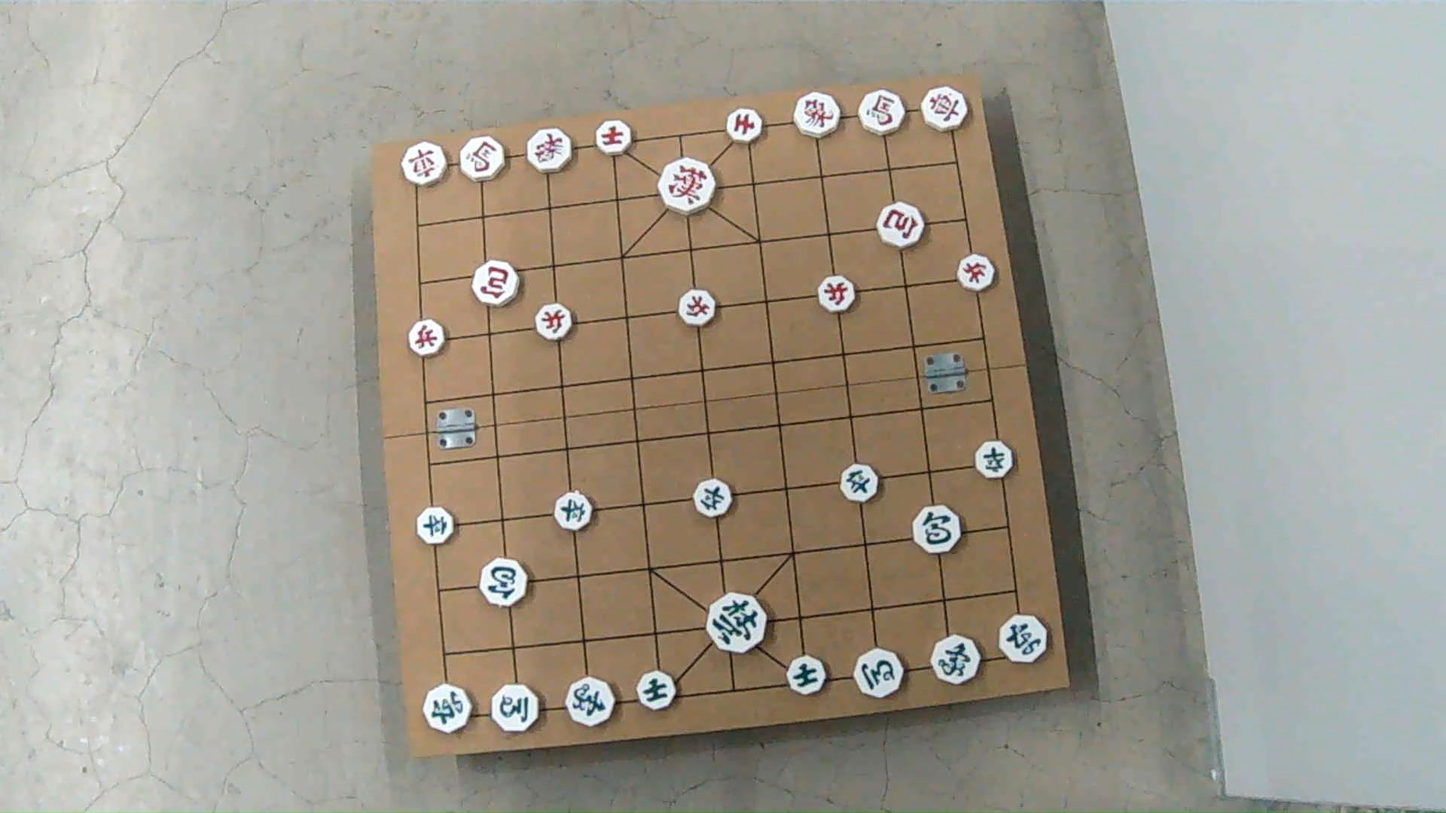cha_green: (426, 685, 474, 734), (1001, 615, 1050, 662)
cha_red: (401, 142, 446, 185), (925, 89, 970, 132)
jol_green: (842, 465, 880, 504), (695, 479, 734, 517), (554, 491, 591, 530), (975, 440, 1013, 477), (420, 508, 457, 544)
jol_red: (532, 306, 569, 343), (676, 288, 713, 325), (956, 254, 993, 291), (817, 276, 855, 312), (406, 321, 442, 358)
ma_green: (854, 649, 903, 698), (493, 684, 540, 731)
ma_red: (859, 89, 903, 134), (460, 136, 504, 180)
po_green: (480, 560, 528, 607), (915, 507, 962, 554)
po_red: (471, 260, 518, 306), (882, 207, 928, 251)
sa_green: (637, 673, 676, 712), (788, 656, 826, 695)
sa_red: (597, 120, 633, 155), (726, 111, 763, 145)
sang_green: (932, 635, 982, 683), (566, 678, 614, 727)
sang_red: (794, 93, 839, 139), (529, 130, 573, 174)
wang_green: (706, 593, 767, 654)
wang_red: (657, 159, 713, 215)
